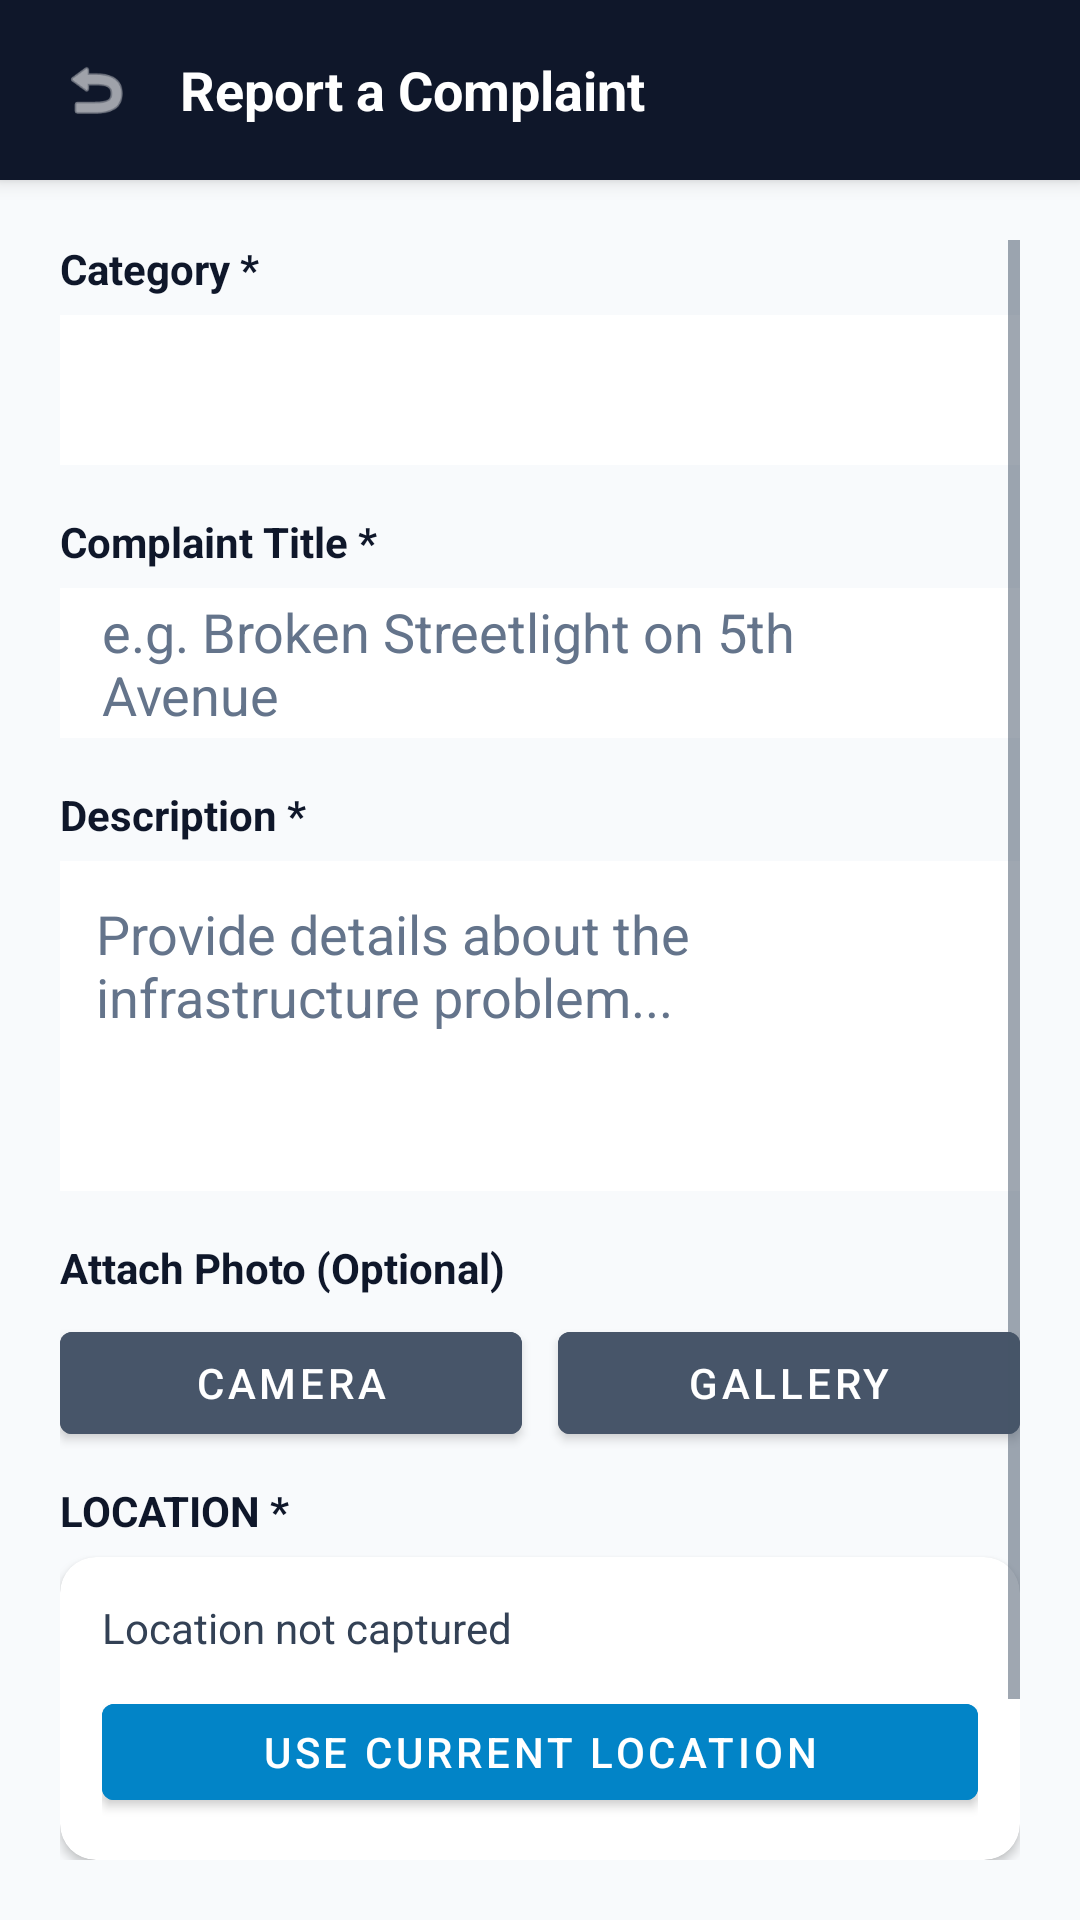

Point at icon controls on the screen. Image size 1080 x 1920, points as [x,y].
revert: [97,90]
